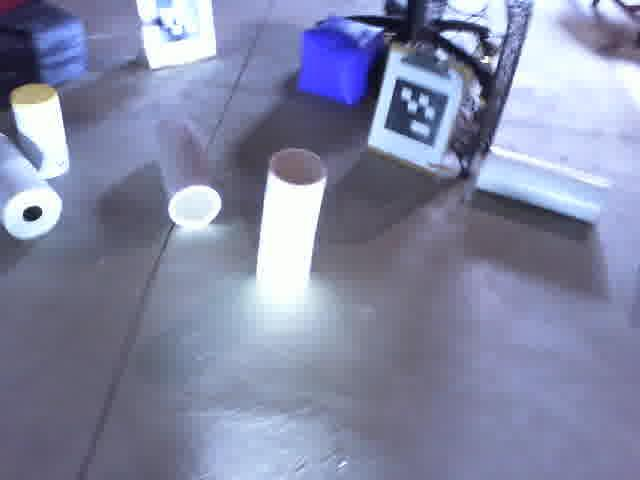coral: (255, 148, 327, 302), (153, 119, 223, 230)
